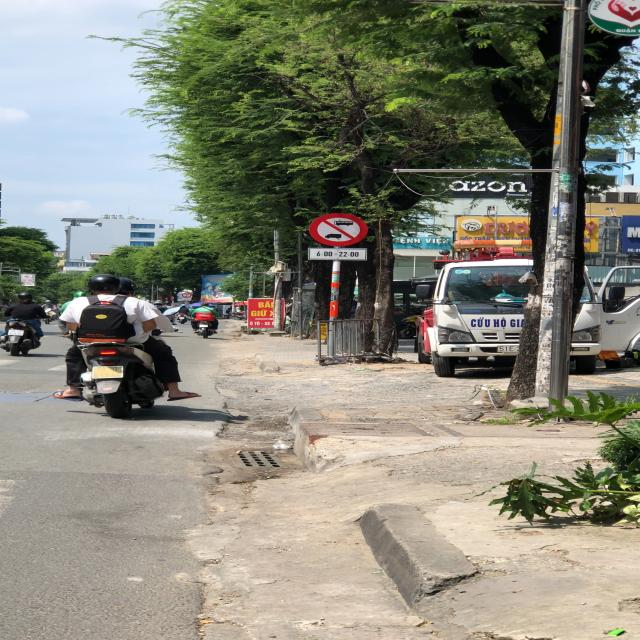Bien bao cam xe oto khach va xe oto tai: (301, 209, 376, 248)
